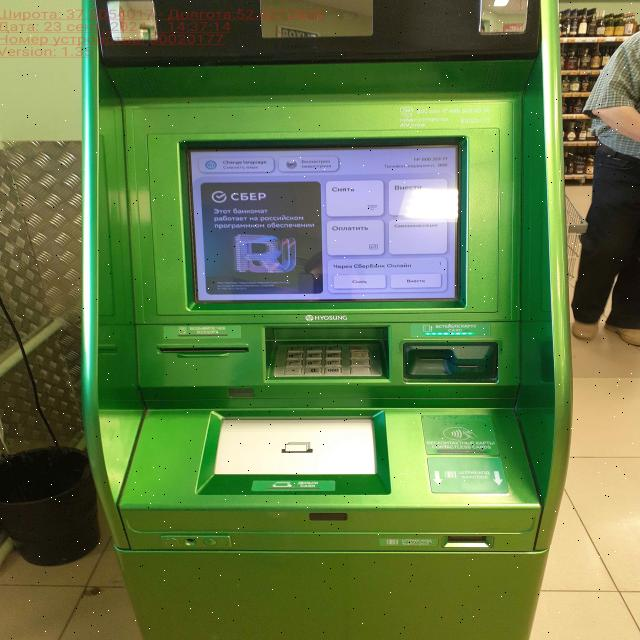bank: (74, 0, 572, 640)
